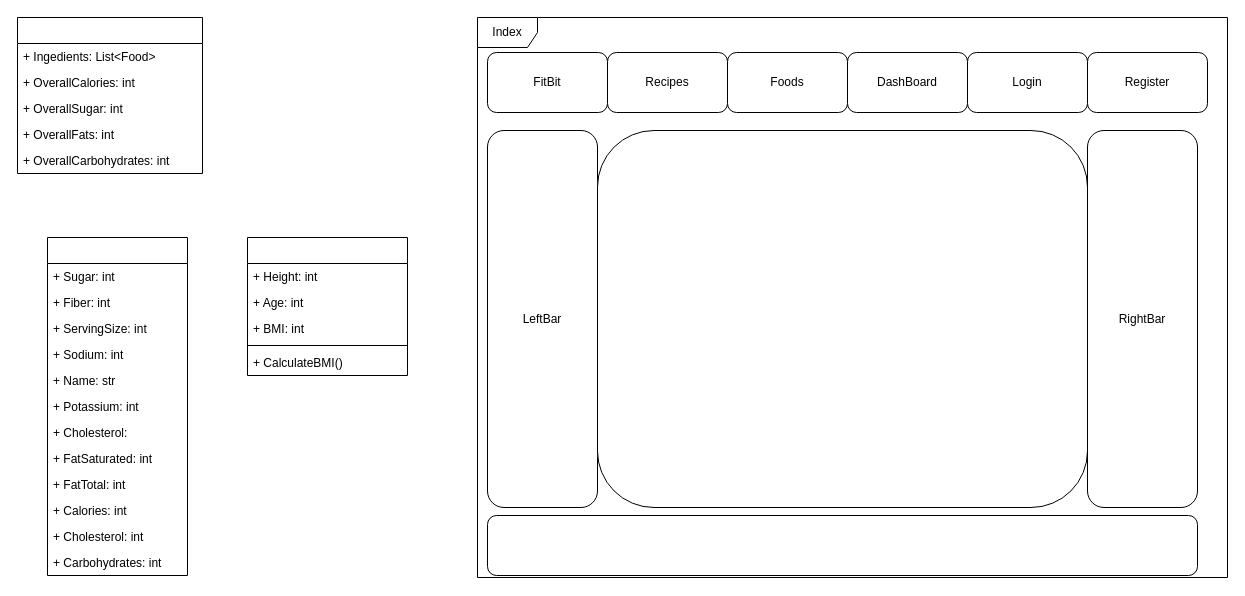
The diagram is 1245 pixels wide and 596 high, and some of its shapes have lost their labels. Here are the shapes that lost their labels. From the top down, the box of each, then its label:
(16, 16, 202, 174): Recipe
(246, 236, 408, 376): User
(596, 130, 1088, 508): Model+Data
(46, 236, 188, 576): Food
(486, 514, 1198, 576): Personalized Suggestions
